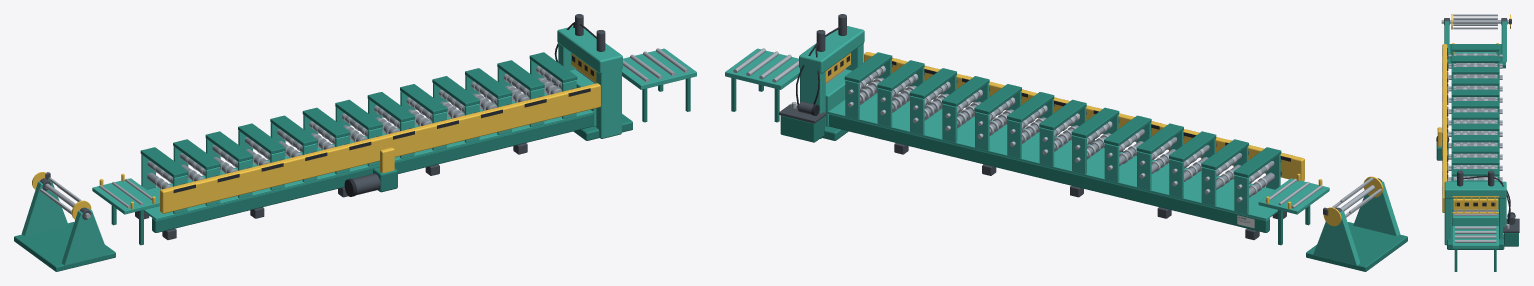
Rendered from perfiladeira_tp40.glb.
The picture shows the model from 3 angles, left to right: view 1: azimuth 30°, elevation 25°; view 2: azimuth 150°, elevation 25°; view 3: azimuth 270°, elevation 25°; orthographic projection. The views are drawn at different scales.
Visible parts, largest first — view 1: protecao_correntes, tampa_castelo (×13), longarina, cavalete (×2), mesa_base, base (×2), coluna, quadro, travessa, tampo, motor, redutor; view 2: tampa_castelo (×13), mesa_base, castelo (×13), longarina, cavalete (×2), protecao_correntes, base, quadro, travessa, coluna, tampo, tanque (+2 smaller); view 3: tampa_castelo (×13), corpo (×17), travessa, protecao_correntes, coluna (×2), quadro, rolete (×4), regua (×4), mesa_inferior, porta_lamina, cavalete (×2), base (×2) (+14 smaller).
Part boxes in pixels (x1,y1,x2,y2): protecao_correntes: (160, 83, 600, 213); tampa_castelo (×13): (140, 52, 577, 177); longarina: (152, 114, 592, 232); cavalete (×2): (21, 179, 108, 265); mesa_base: (144, 93, 594, 220); base (×2): (14, 114, 632, 271); coluna: (596, 53, 621, 138); quadro: (622, 48, 696, 89); travessa: (557, 28, 622, 73); tampo: (92, 178, 159, 214); motor: (352, 173, 380, 195); redutor: (373, 167, 397, 192); tampa_castelo (×13): (844, 52, 1281, 177); mesa_base: (827, 93, 1277, 220); castelo (×13): (845, 80, 1248, 213); longarina: (829, 114, 1269, 232); cavalete (×2): (1313, 181, 1400, 265); protecao_correntes: (864, 52, 1304, 181); base: (1306, 222, 1407, 271); quadro: (725, 48, 799, 89); travessa: (799, 27, 864, 73); coluna: (800, 53, 825, 138); tampo: (1258, 178, 1329, 214); tanque: (780, 115, 824, 142); tampa_castelo (×13): (1451, 44, 1499, 181); corpo (×17): (1456, 53, 1495, 166); travessa: (1444, 181, 1506, 198); protecao_correntes: (1442, 44, 1447, 212); coluna (×2): (1444, 182, 1506, 245); quadro: (1452, 226, 1498, 248); rolete (×4): (1455, 226, 1496, 242); regua (×4): (1453, 14, 1497, 29); mesa_inferior: (1452, 209, 1498, 225); porta_lamina: (1453, 198, 1498, 209); cavalete (×2): (1444, 21, 1506, 62); base (×2): (1447, 44, 1505, 249).
Bounding box in the file's own units: 14.95 × 2.17 × 2.33.
9 materials, 1 textured.
